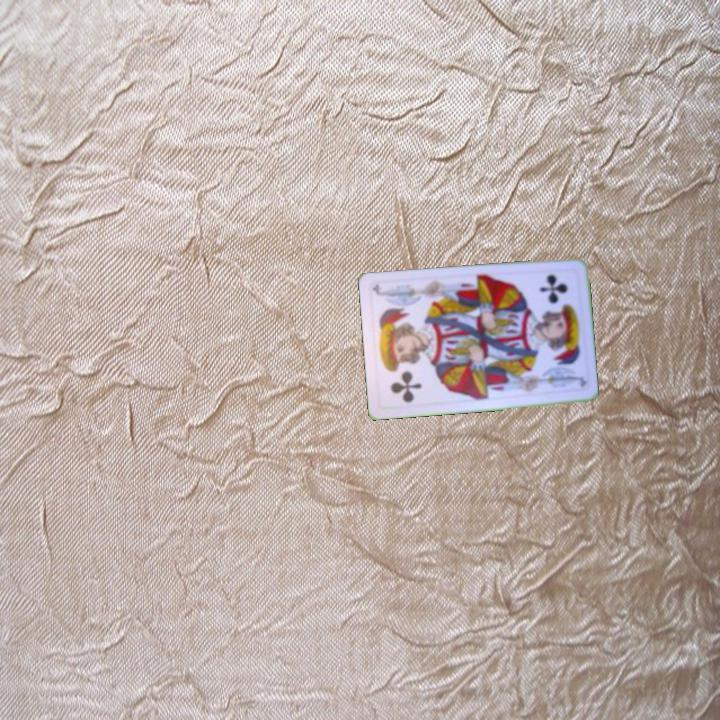c_j.png: (521, 266, 583, 337), (373, 339, 435, 409)
